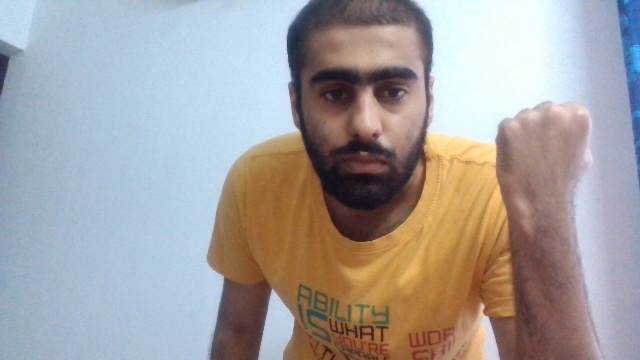rock: (493, 100, 593, 212)
